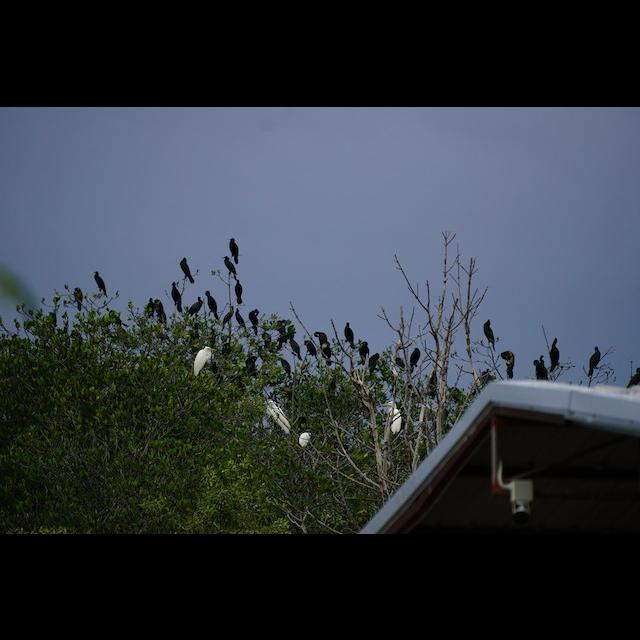egret: (191, 346, 219, 378), (381, 401, 404, 435)
